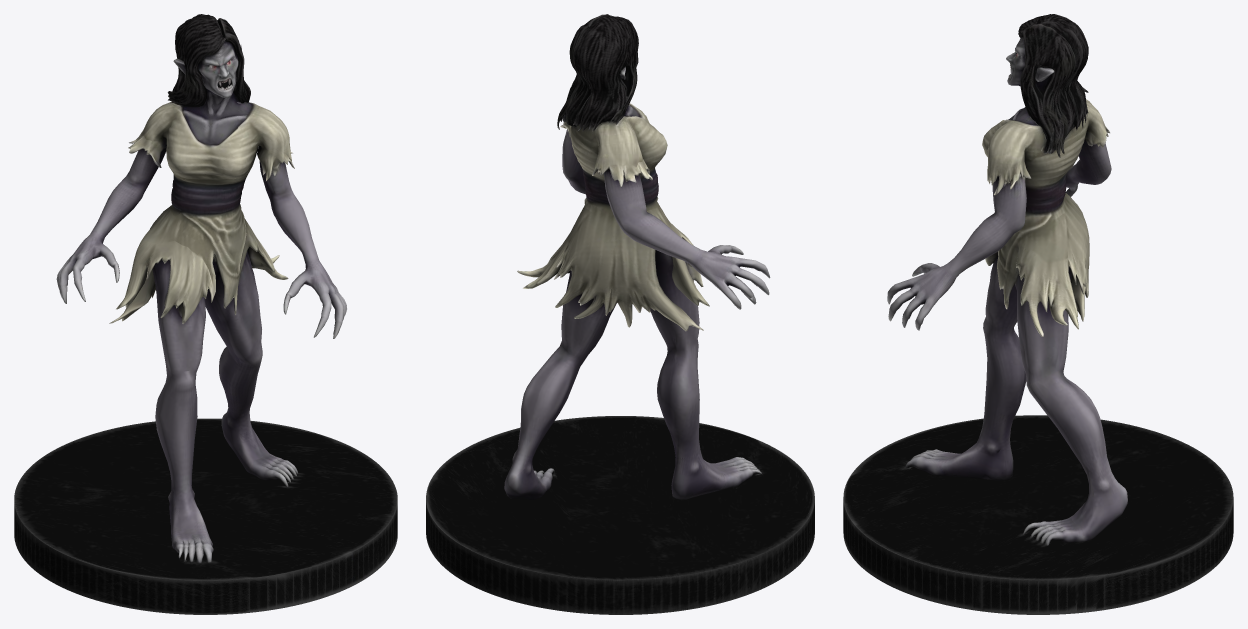
File: MZ4250 - Vampire Spawn Female.glb
3 renders of one model, left to right at view 1: azimuth 30°, elevation 25°; view 2: azimuth 150°, elevation 25°; view 3: azimuth 270°, elevation 25°, orthographic.
Visible parts, largest first — view 1: base_low.001, body_low.001; view 2: base_low.001, body_low.001; view 3: base_low.001, body_low.001.
Boxes of the visible parts, left/top/right/bottom form: base_low.001: left=14, top=418, right=397, bottom=614; body_low.001: left=56, top=14, right=346, bottom=562; base_low.001: left=426, top=416, right=814, bottom=614; body_low.001: left=504, top=14, right=770, bottom=499; base_low.001: left=843, top=415, right=1233, bottom=614; body_low.001: left=887, top=14, right=1127, bottom=545.
Bounding box in the file's own units: 4.52 × 6.63 × 4.52.
Materials: 1 (1 with a texture image).
